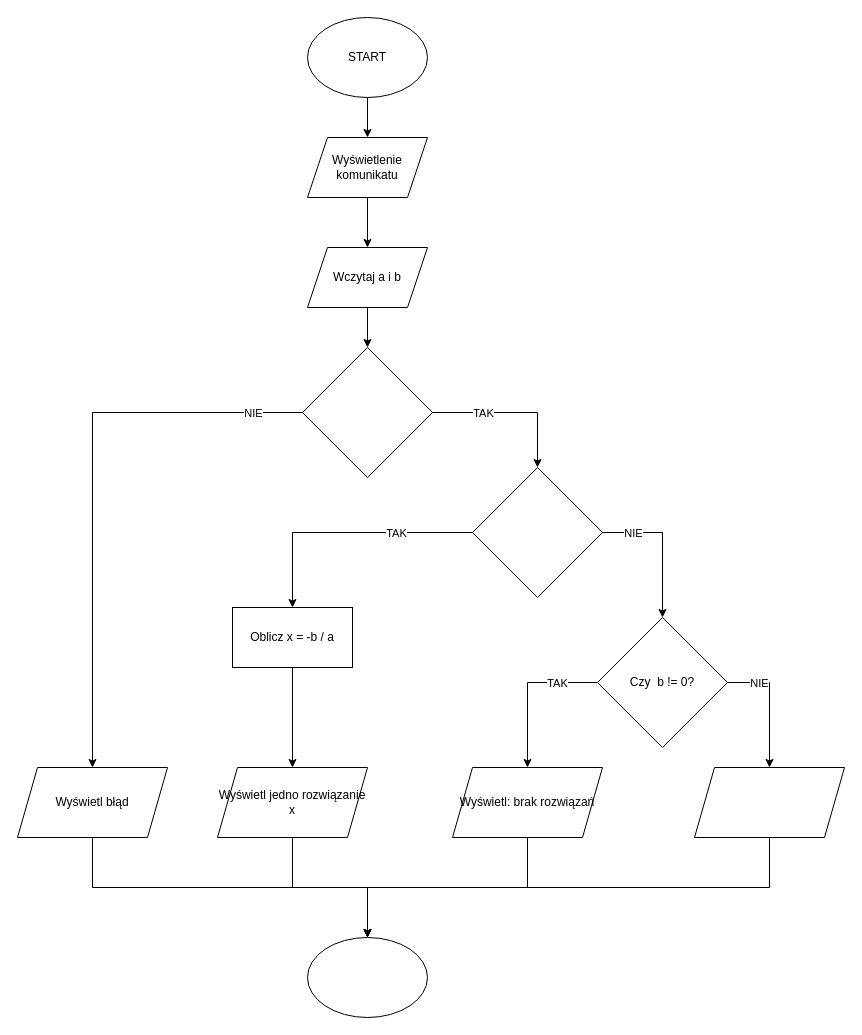
This 862x1035 diagram has some shape labels left out. Each missing label, with the box of its shape:
Czy a != 0?: (472, 466, 602, 598)
Czy dane są poprawne?: (302, 346, 432, 478)
STOP: (306, 936, 428, 1018)
Wyświetl: nieskończenie wiele rozwiązań: (694, 766, 844, 838)
